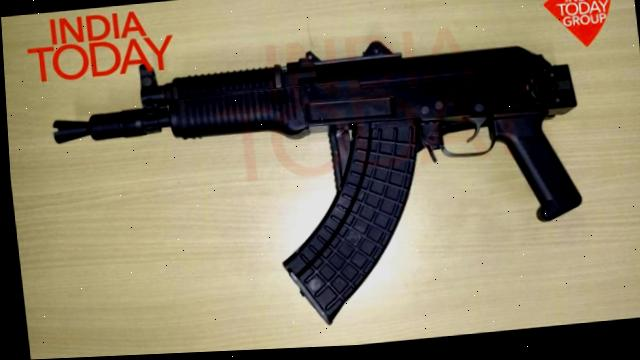rifle: (19, 5, 612, 359)
